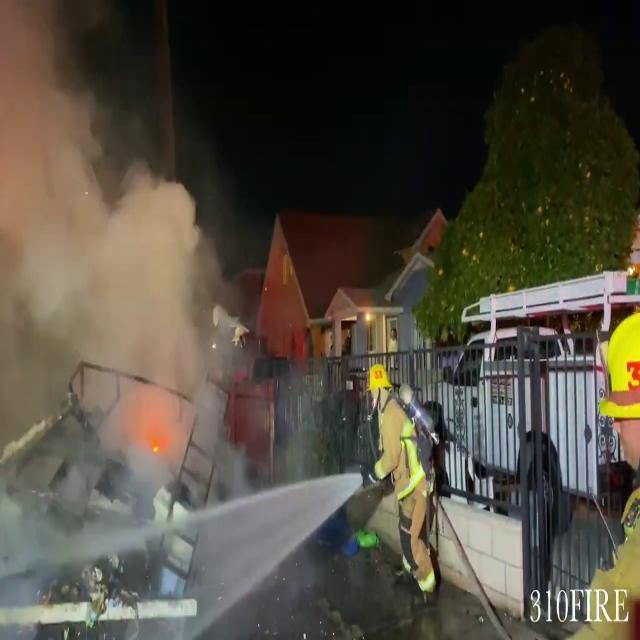Smoke: (0, 2, 244, 580)
